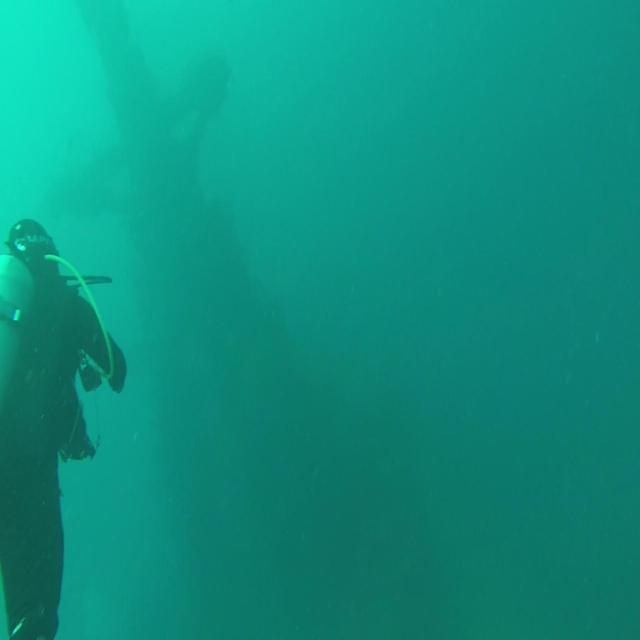human: (0, 216, 127, 638)
